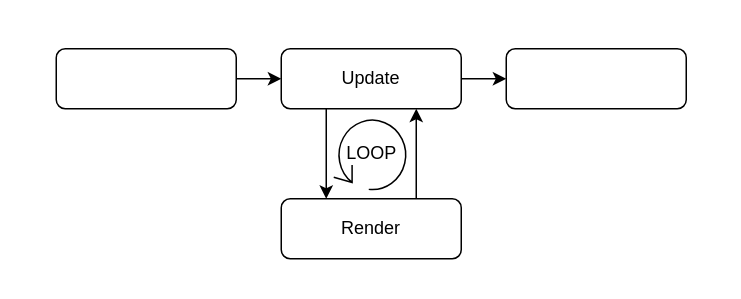
This 741x299 diagram has some shape labels left out. The shapes that lost their labels are listed below. From the top down, each one's centre as x and y in pixels, then its label:
At pixel 145 78: "Startup".
At pixel 595 78: "Shutdown".
